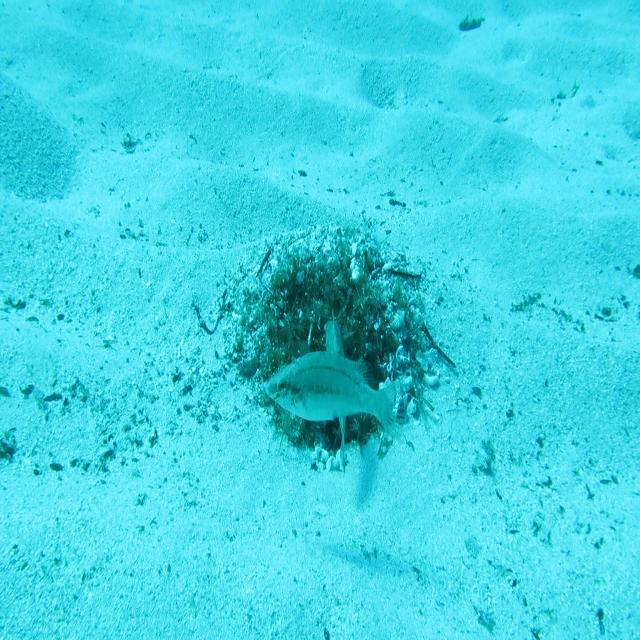FAN: (320, 305, 348, 477)
core_nest: (301, 279, 354, 313)
female: (263, 347, 405, 451)
nest: (217, 214, 444, 482)
vegetation: (455, 11, 487, 34)
